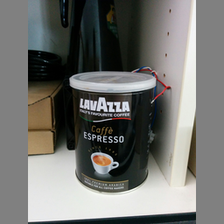coffee: (68, 70, 156, 195)
